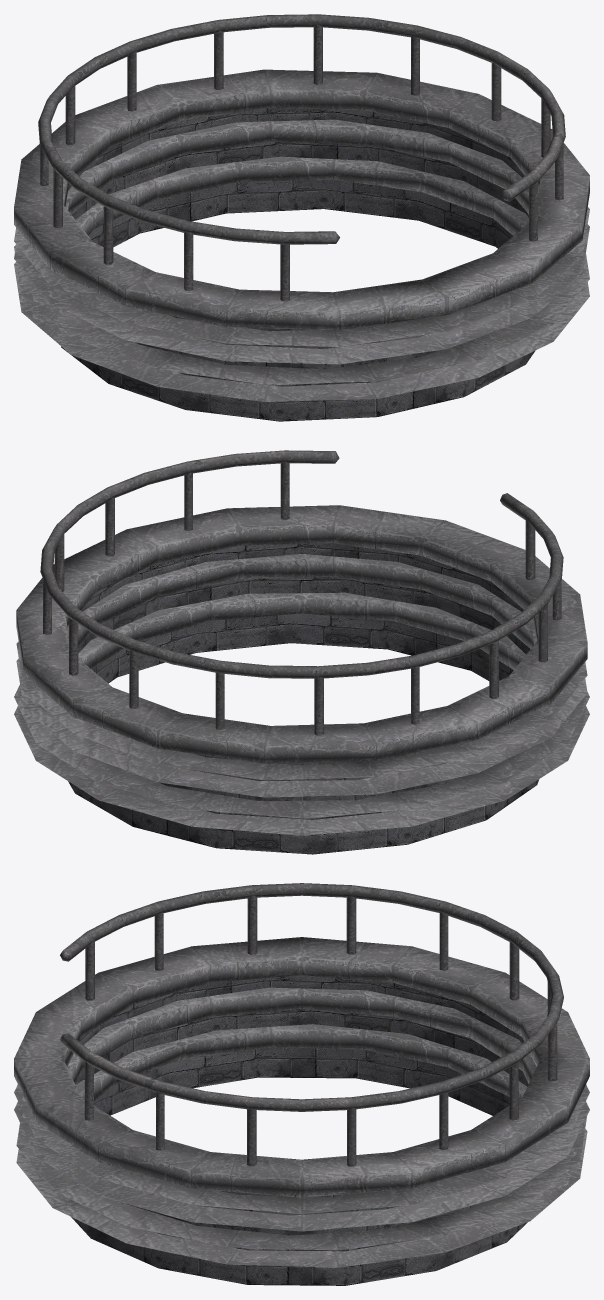
Rendered from Wal3.fbx.
The picture shows the model from 3 angles, top to bottom: view 1: azimuth 30°, elevation 25°; view 2: azimuth 150°, elevation 25°; view 3: azimuth 270°, elevation 25°; orthographic projection.
Parts seen in each view (by area): view 1: M4_Nigraturis_Lower_Handrail01_SM_SCY; view 2: M4_Nigraturis_Lower_Handrail01_SM_SCY; view 3: M4_Nigraturis_Lower_Handrail01_SM_SCY.
Boxes of the visible parts, bbox=[...] form: M4_Nigraturis_Lower_Handrail01_SM_SCY: bbox=[14, 14, 589, 421]; M4_Nigraturis_Lower_Handrail01_SM_SCY: bbox=[14, 450, 589, 854]; M4_Nigraturis_Lower_Handrail01_SM_SCY: bbox=[14, 883, 589, 1285].
Bounding box in the file's own units: 2.29 × 0.8288 × 2.29.
Materials: 1 (1 with a texture image).
